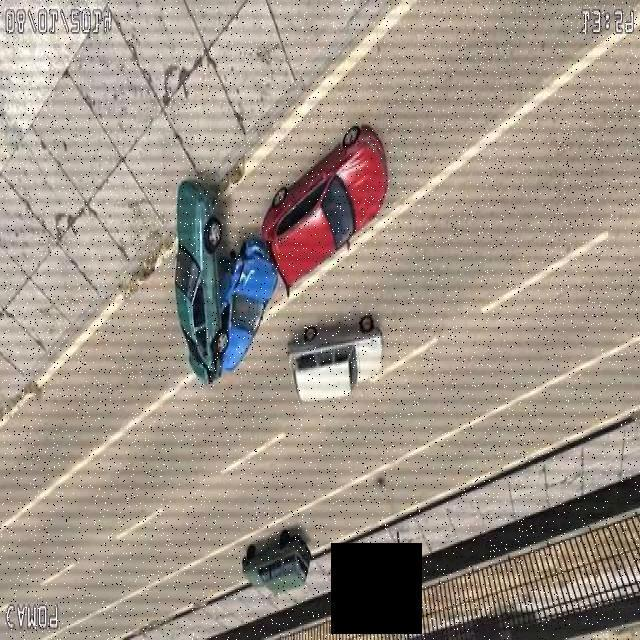person: (172, 173, 230, 399)
vehicle: (228, 110, 406, 320)
